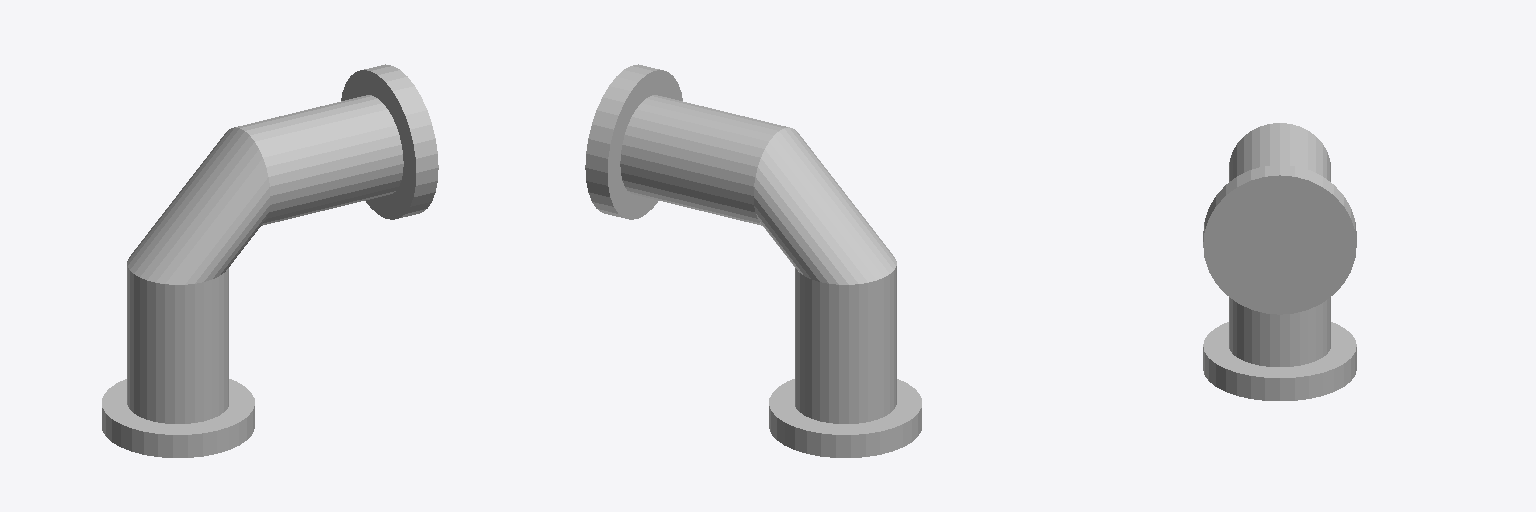
The model's file is pipe_r.obj.
The picture shows the model from 3 angles: view 1: azimuth 30°, elevation 25°; view 2: azimuth 150°, elevation 25°; view 3: azimuth 270°, elevation 25°; orthographic projection.
Visible parts, largest first — view 1: Cylinder; view 2: Cylinder; view 3: Cylinder.
Boxes of the visible parts, <box> form: Cylinder: <box>102,64,438,457</box>; Cylinder: <box>585,64,921,457</box>; Cylinder: <box>1203,123,1356,400</box>.
Size of the model in its own units: 1.3 by 1.3 by 0.6.